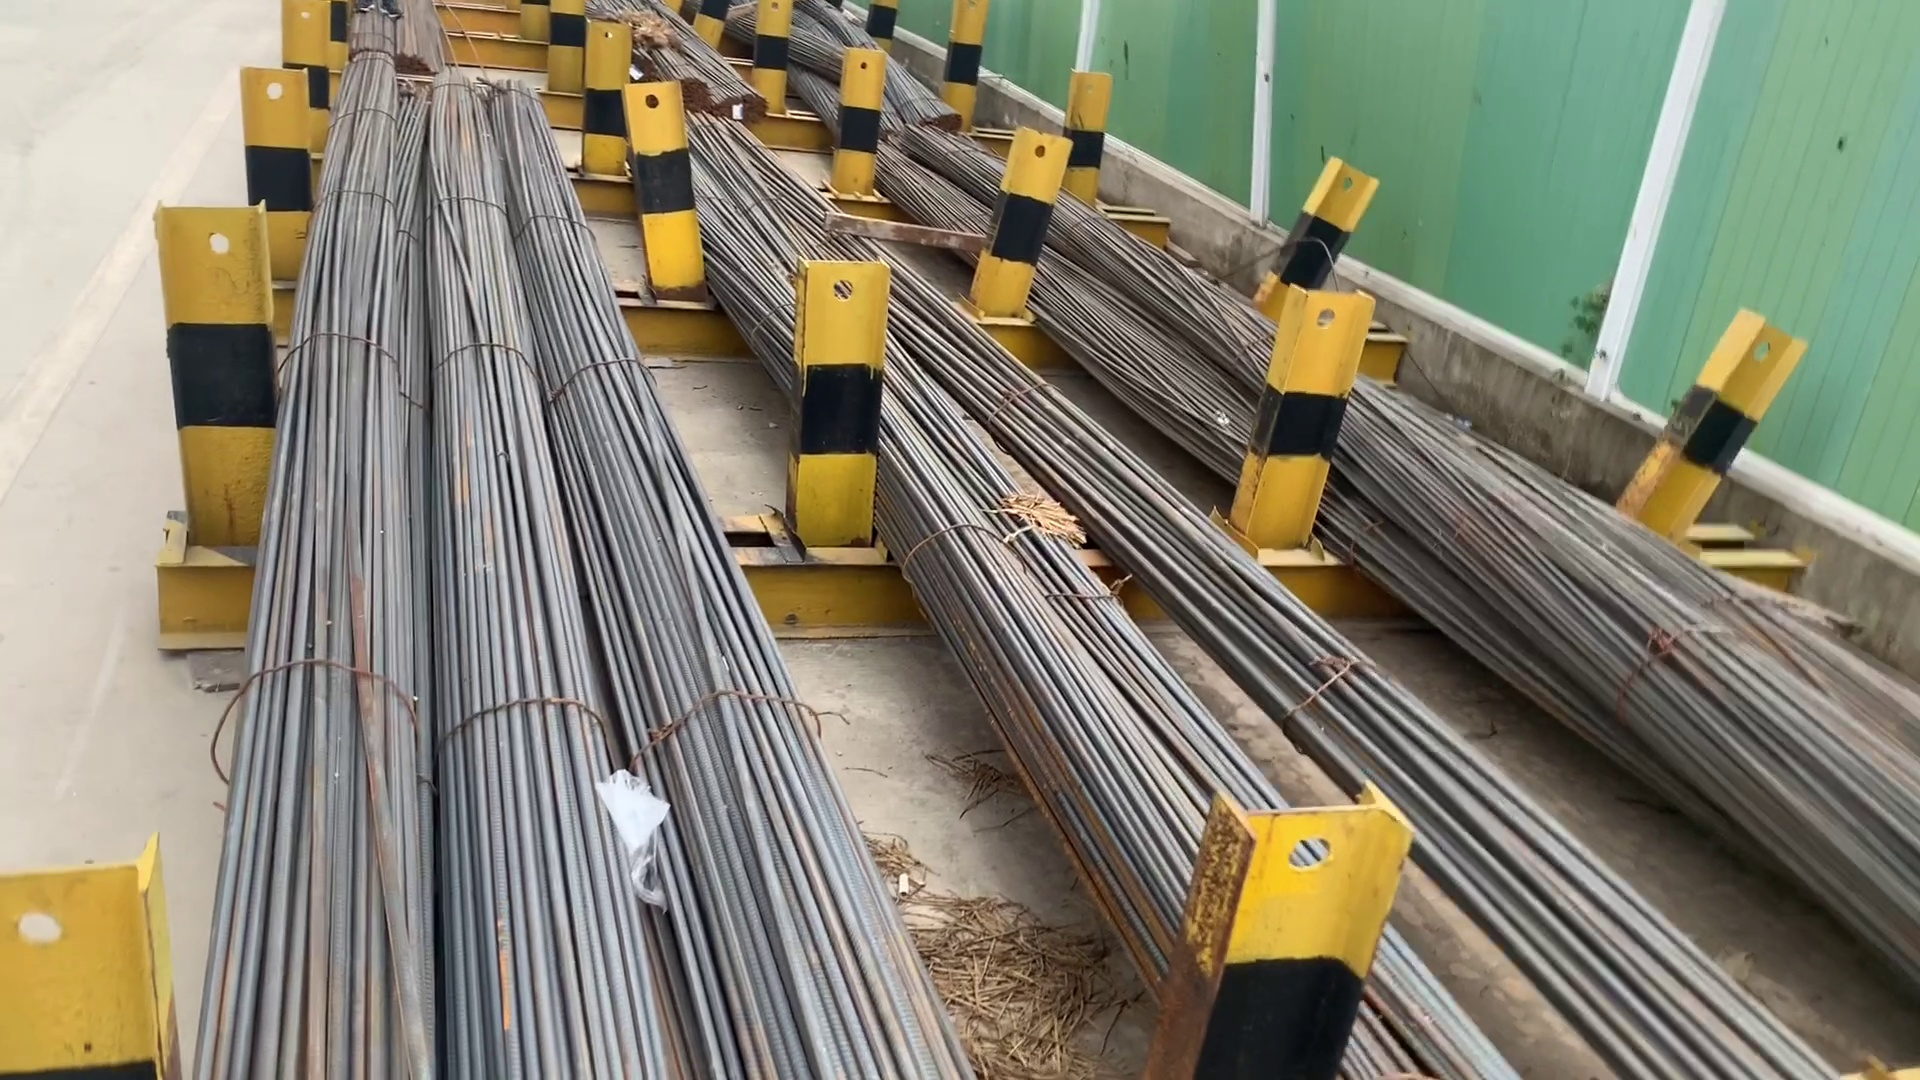rebar: (914, 98, 971, 138), (673, 65, 713, 116), (717, 88, 775, 117)
